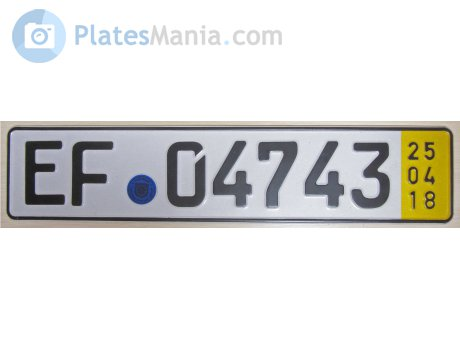License Plates: (24, 133, 398, 210)
